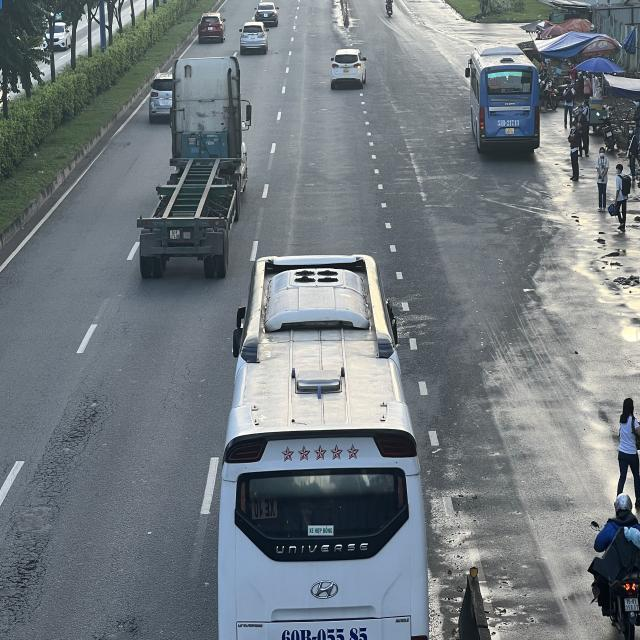car: (329, 48, 368, 89), (198, 12, 228, 44), (239, 23, 269, 54)
coach: (222, 251, 422, 638), (464, 50, 539, 156)
container: (134, 56, 248, 281)
